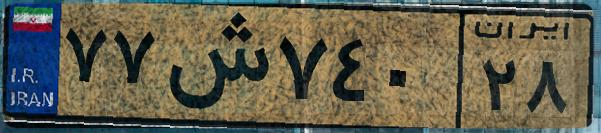0: (385, 28, 445, 110)
2: (475, 38, 525, 113)
4: (330, 28, 385, 110)
7: (270, 28, 330, 110), (57, 26, 110, 100), (110, 28, 158, 98)
8: (525, 38, 570, 115)
ش: (158, 12, 270, 120)
